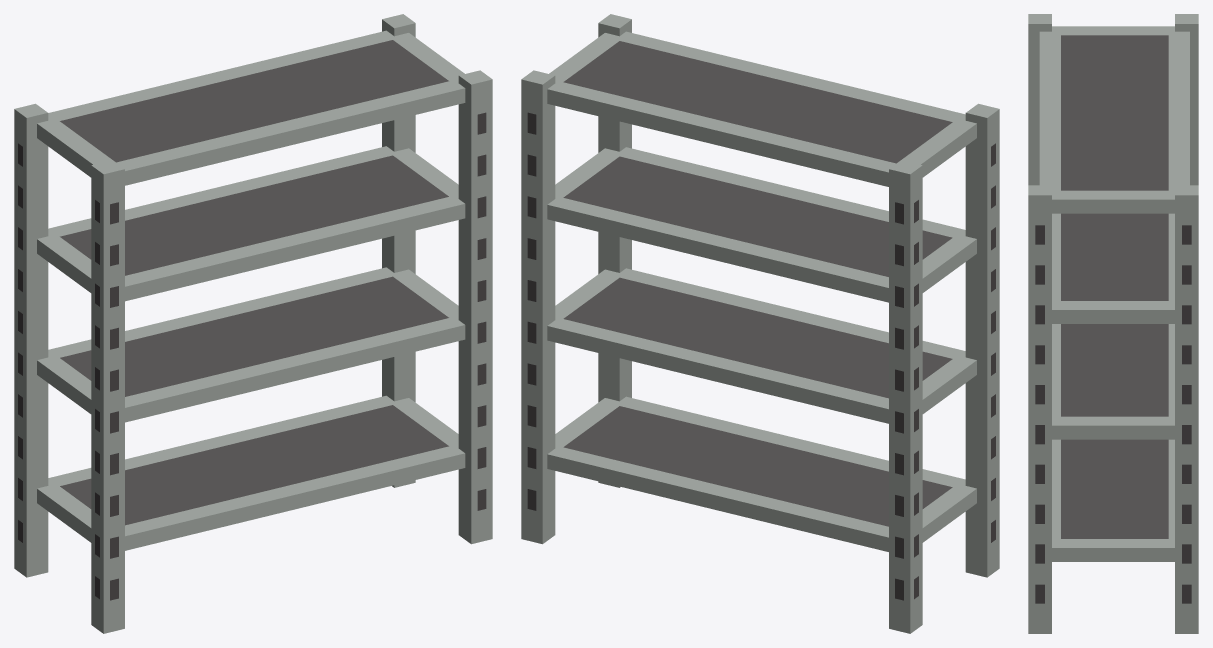
The model's file is shelf.fbx.
The picture shows the model from 3 angles, left to right: view 1: azimuth 30°, elevation 25°; view 2: azimuth 150°, elevation 25°; view 3: azimuth 270°, elevation 25°; orthographic projection. The views are drawn at different scales.
Parts seen in each view (by area): view 1: shelf; view 2: shelf; view 3: shelf.
Boxes of the visible parts, bbox=[...] form: shelf: bbox=[14, 14, 492, 633]; shelf: bbox=[521, 14, 999, 633]; shelf: bbox=[1028, 14, 1198, 633].
Size of the model in its own units: 105 by 119 by 41.82.
